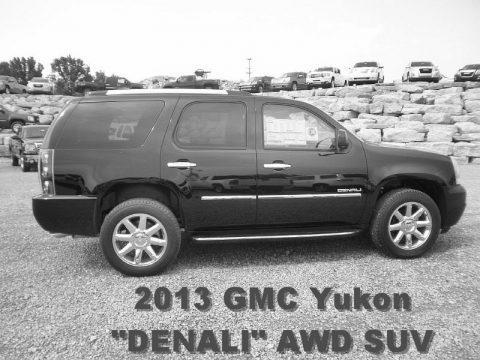car: (33, 87, 468, 278)
